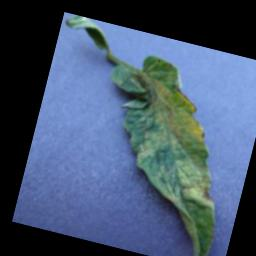Leaf_Mold: (122, 73, 220, 155), (178, 170, 222, 210)
